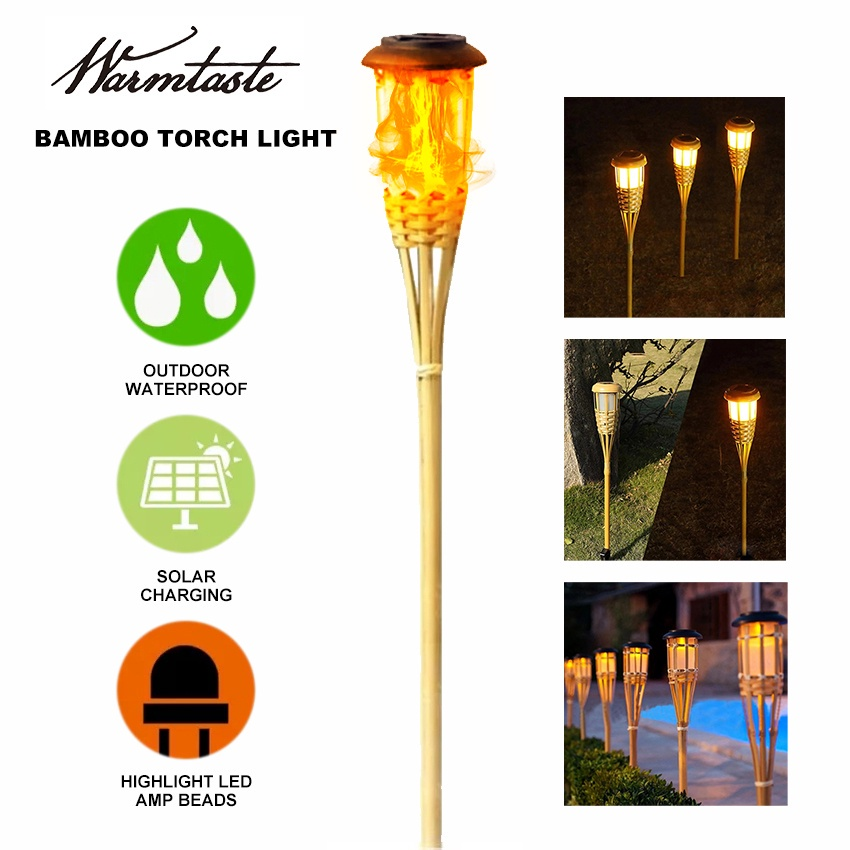Open-Flame-Hazard: (347, 14, 491, 850)
